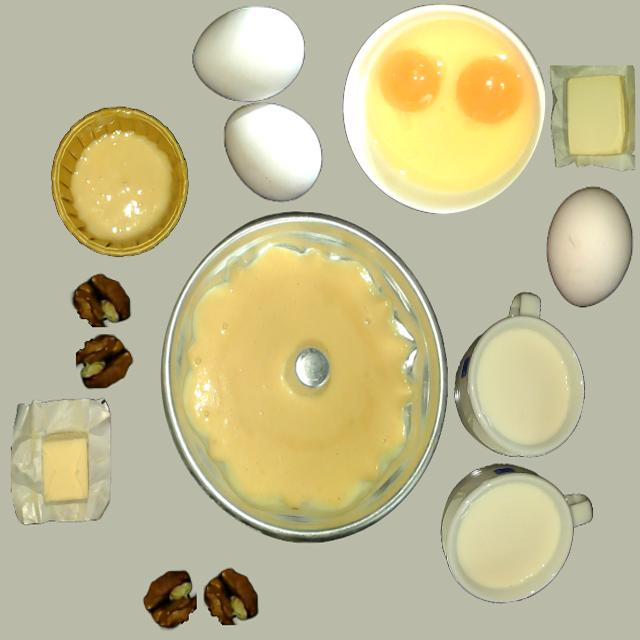Egg: (455, 57, 523, 125), (380, 49, 442, 114)
Milk: (454, 480, 566, 597), (475, 328, 574, 448)
